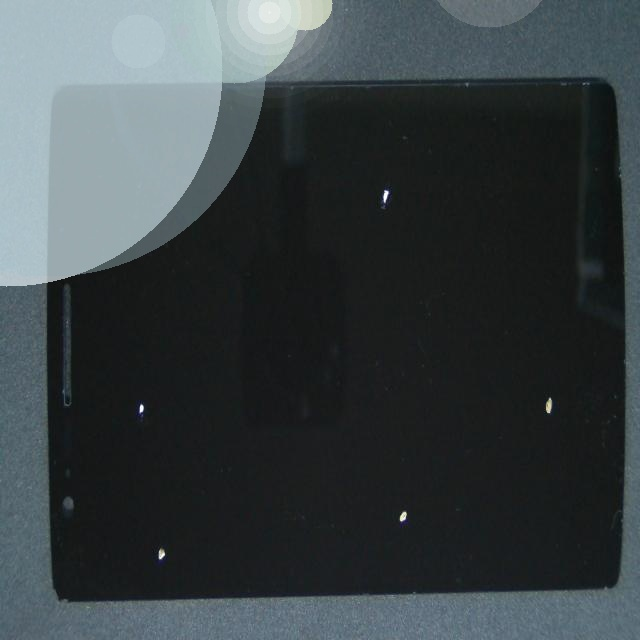stain: (238, 188, 640, 622), (224, 240, 605, 640), (196, 47, 571, 257), (38, 318, 246, 640), (75, 159, 203, 576)
